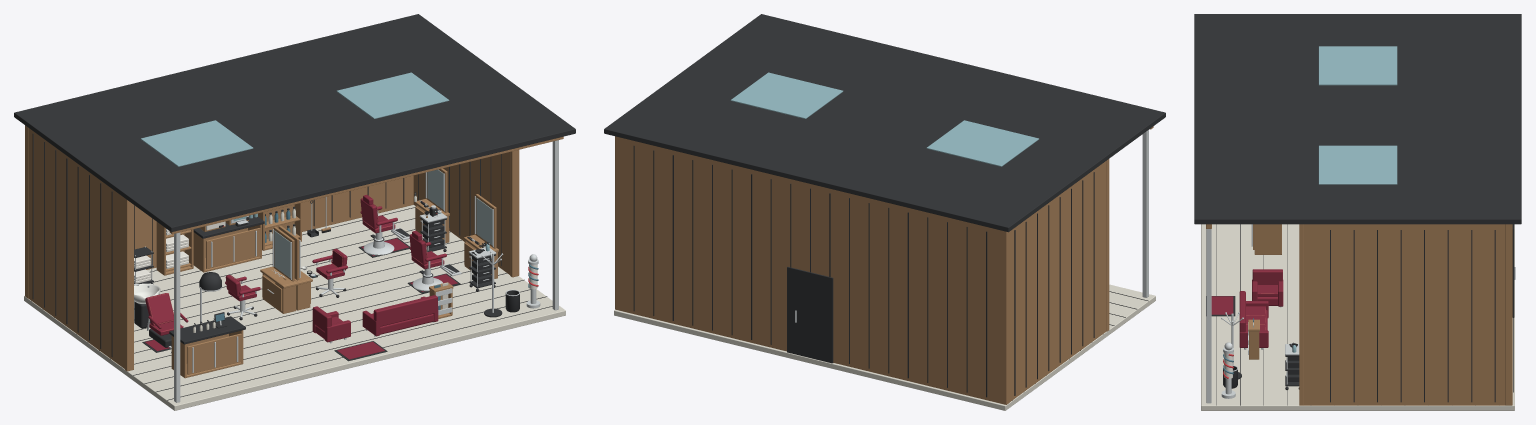
The model's file is barbershop-and-hair-salon-oak-and-burgun-82881408-starter-scene__29684.glb.
3 views of the same model, side by side, from view 1: azimuth 30°, elevation 25°; view 2: azimuth 150°, elevation 25°; view 3: azimuth 270°, elevation 25° (orthographic). The views are drawn at different scales.
Visible parts, largest first — view 1: 000-salon-building/2, 000-salon-building/3, 000-salon-building/1, 000-salon-building/4, 000-salon-building/0, 018-reception-counter/1, 009-double-sided-styling-island/1, 022-reception-counter/1, 024-waiting-sofa/1, 012-backwash-chair/1, 025-waiting-armchair/1, 021-retail-product-display/0 (+16 smaller); view 2: 000-salon-building/1, 000-salon-building/2, 000-salon-building/4, 000-salon-building/3, 000-salon-building/0; view 3: 000-salon-building/2, 000-salon-building/1, 000-salon-building/3, 000-salon-building/4, 024-waiting-sofa/1, 025-waiting-armchair/1, 000-salon-building/0, 022-reception-counter/1, 008-styling-trolley/1, 026-magazine-rack/1, 001-entrance-mat/0, 002-barber-pole/0.
Boxes of the visible parts, x1,y1,x2,y2 form: 000-salon-building/2: [14, 14, 575, 400]; 000-salon-building/3: [24, 205, 565, 410]; 000-salon-building/1: [25, 125, 563, 371]; 000-salon-building/4: [141, 72, 449, 166]; 000-salon-building/0: [174, 140, 558, 402]; 018-reception-counter/1: [193, 224, 261, 272]; 009-double-sided-styling-island/1: [260, 225, 312, 313]; 022-reception-counter/1: [171, 330, 243, 378]; 024-waiting-sofa/1: [362, 295, 438, 336]; 012-backwash-chair/1: [145, 293, 188, 335]; 025-waiting-armchair/1: [312, 306, 350, 342]; 021-retail-product-display/0: [258, 203, 301, 250]; 000-salon-building/1: [615, 126, 1153, 404]; 000-salon-building/2: [604, 14, 1165, 400]; 000-salon-building/4: [730, 72, 1038, 166]; 000-salon-building/3: [614, 284, 1155, 410]; 000-salon-building/0: [795, 130, 1148, 322]; 000-salon-building/2: [1194, 14, 1521, 405]; 000-salon-building/1: [1206, 224, 1512, 405]; 000-salon-building/3: [1201, 224, 1514, 410]; 000-salon-building/4: [1318, 46, 1397, 184]; 024-waiting-sofa/1: [1239, 291, 1268, 347]; 025-waiting-armchair/1: [1252, 269, 1283, 306]; 000-salon-building/0: [1206, 229, 1515, 403]; 022-reception-counter/1: [1253, 224, 1281, 254]; 008-styling-trolley/1: [1285, 355, 1299, 389]; 026-magazine-rack/1: [1248, 319, 1259, 359]; 001-entrance-mat/0: [1211, 296, 1233, 314]; 002-barber-pole/0: [1221, 342, 1235, 398].
Size of the model in its own units: 12.4 by 5.53 by 8.35.
